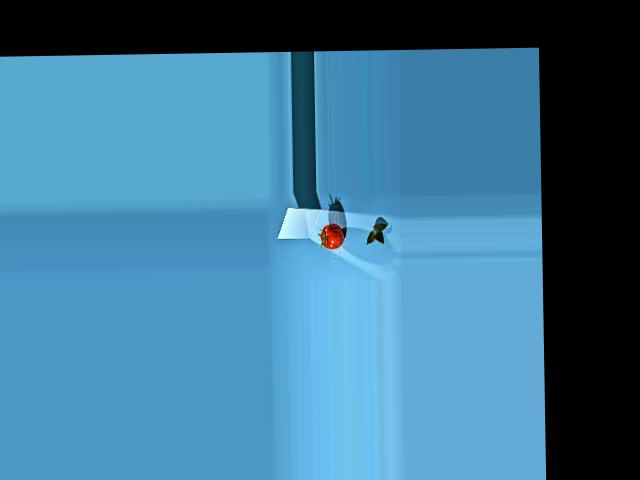tomato: (319, 223, 344, 249)
